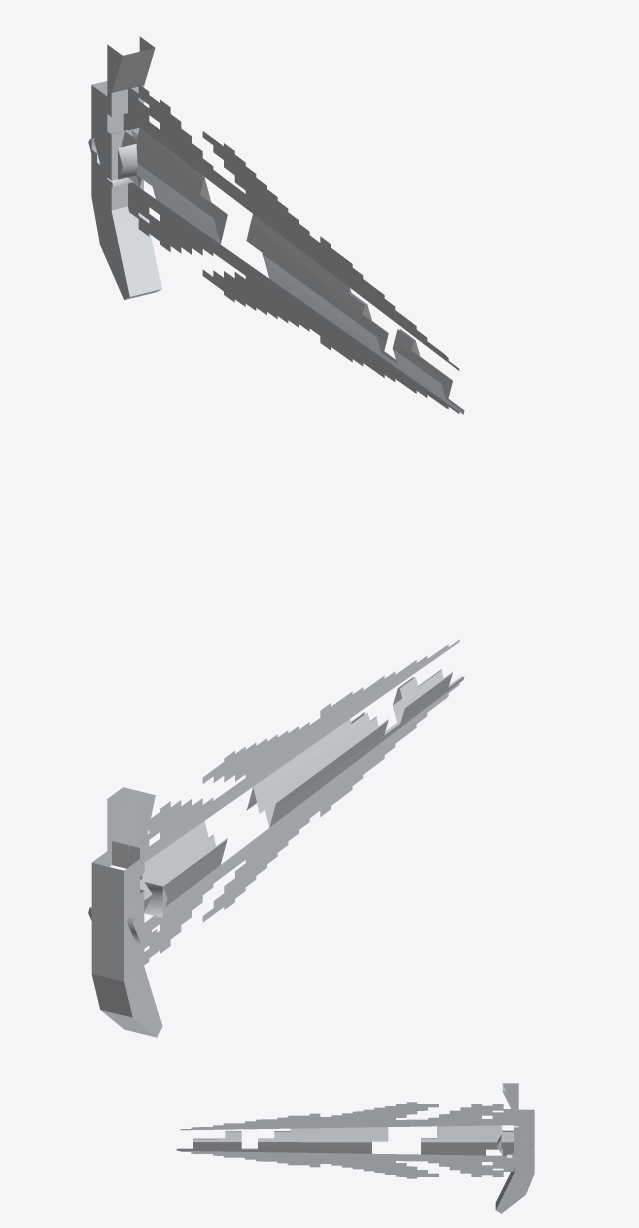
File: beipanzhe.FBX
3 views of the same model, one above another, from view 1: azimuth 30°, elevation 25°; view 2: azimuth 150°, elevation 25°; view 3: azimuth 270°, elevation 25° (orthographic). The views are drawn at different scales.
Parts seen in each view (by area): view 1: SMDImport; view 2: SMDImport; view 3: SMDImport.
Part boxes in pixels (box(x1,y1,x2,y2)): SMDImport: box(88, 36, 464, 414); SMDImport: box(88, 640, 464, 1037); SMDImport: box(176, 1083, 534, 1213).
Bounding box in the file's own units: 7.42 × 43.99 × 174.
